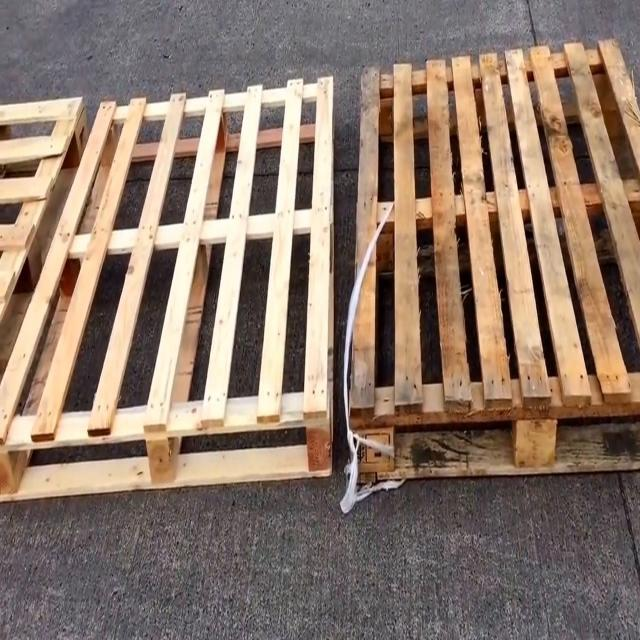Palette: (0, 79, 343, 511), (349, 37, 640, 490), (0, 83, 92, 428)
